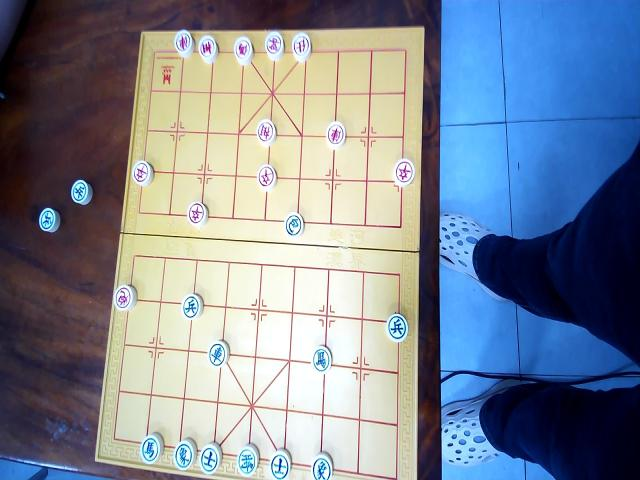piece: (236, 443, 260, 476), (268, 446, 292, 479), (139, 433, 163, 465), (198, 442, 221, 475), (172, 438, 195, 471), (392, 157, 415, 188), (385, 311, 408, 342), (112, 284, 136, 312), (234, 34, 254, 64), (198, 34, 218, 64), (291, 31, 311, 61), (311, 452, 333, 479), (256, 117, 276, 146), (256, 162, 276, 191), (264, 31, 284, 60), (326, 120, 346, 149), (208, 339, 228, 368), (132, 159, 153, 186), (181, 293, 202, 320), (187, 201, 207, 228), (174, 29, 194, 56), (311, 346, 331, 373), (284, 211, 303, 237)
